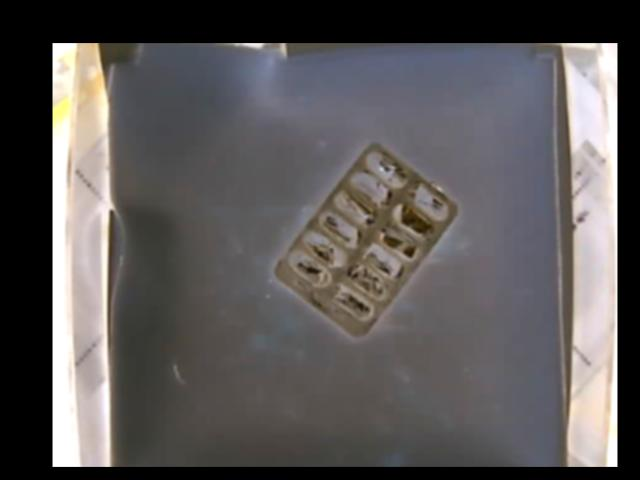Medicine: (274, 141, 455, 343)
